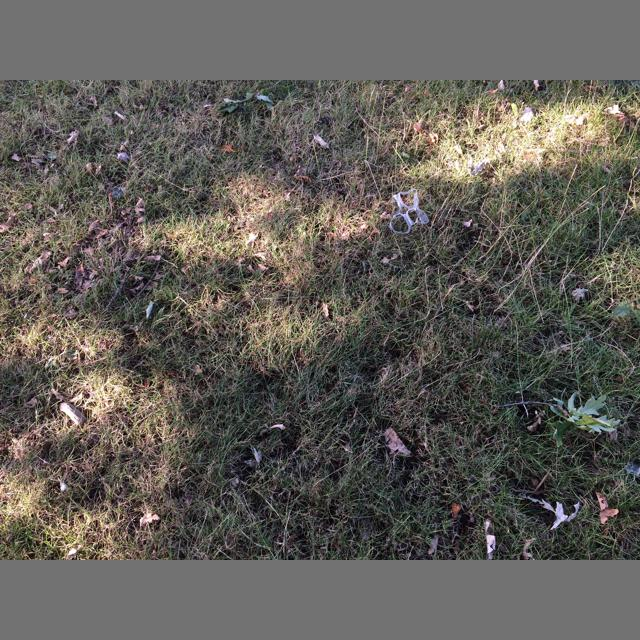litter: (389, 189, 429, 234)
